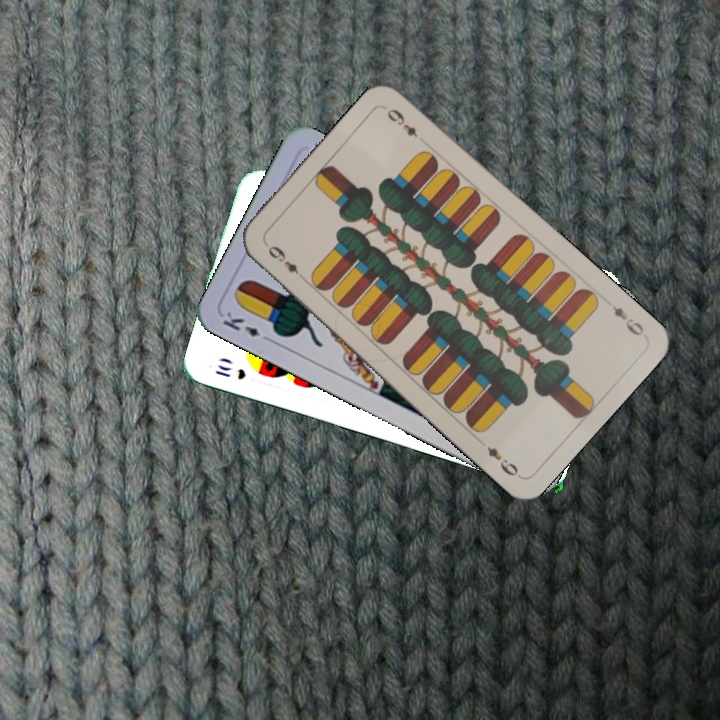E9: (608, 301, 647, 339), (263, 241, 302, 277)
EK: (218, 307, 275, 345)
S10: (210, 360, 249, 383)
